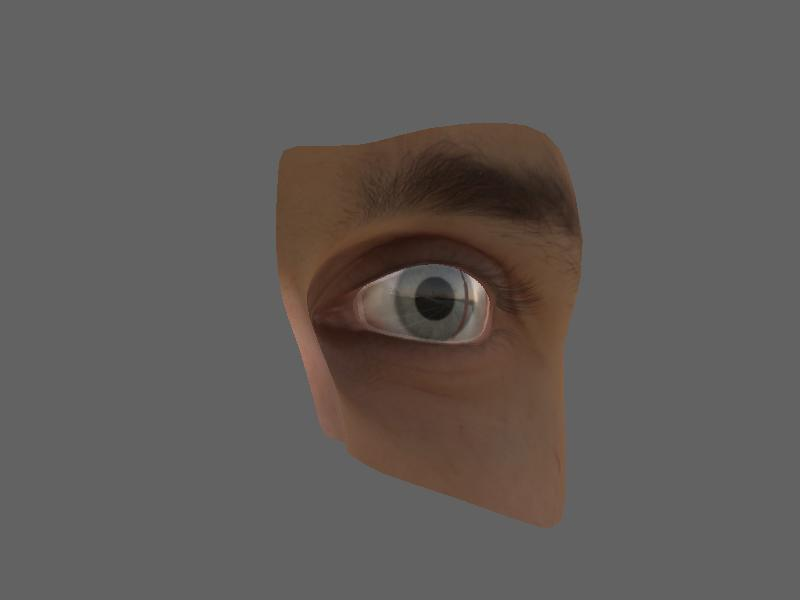iris: (398, 269, 473, 341)
